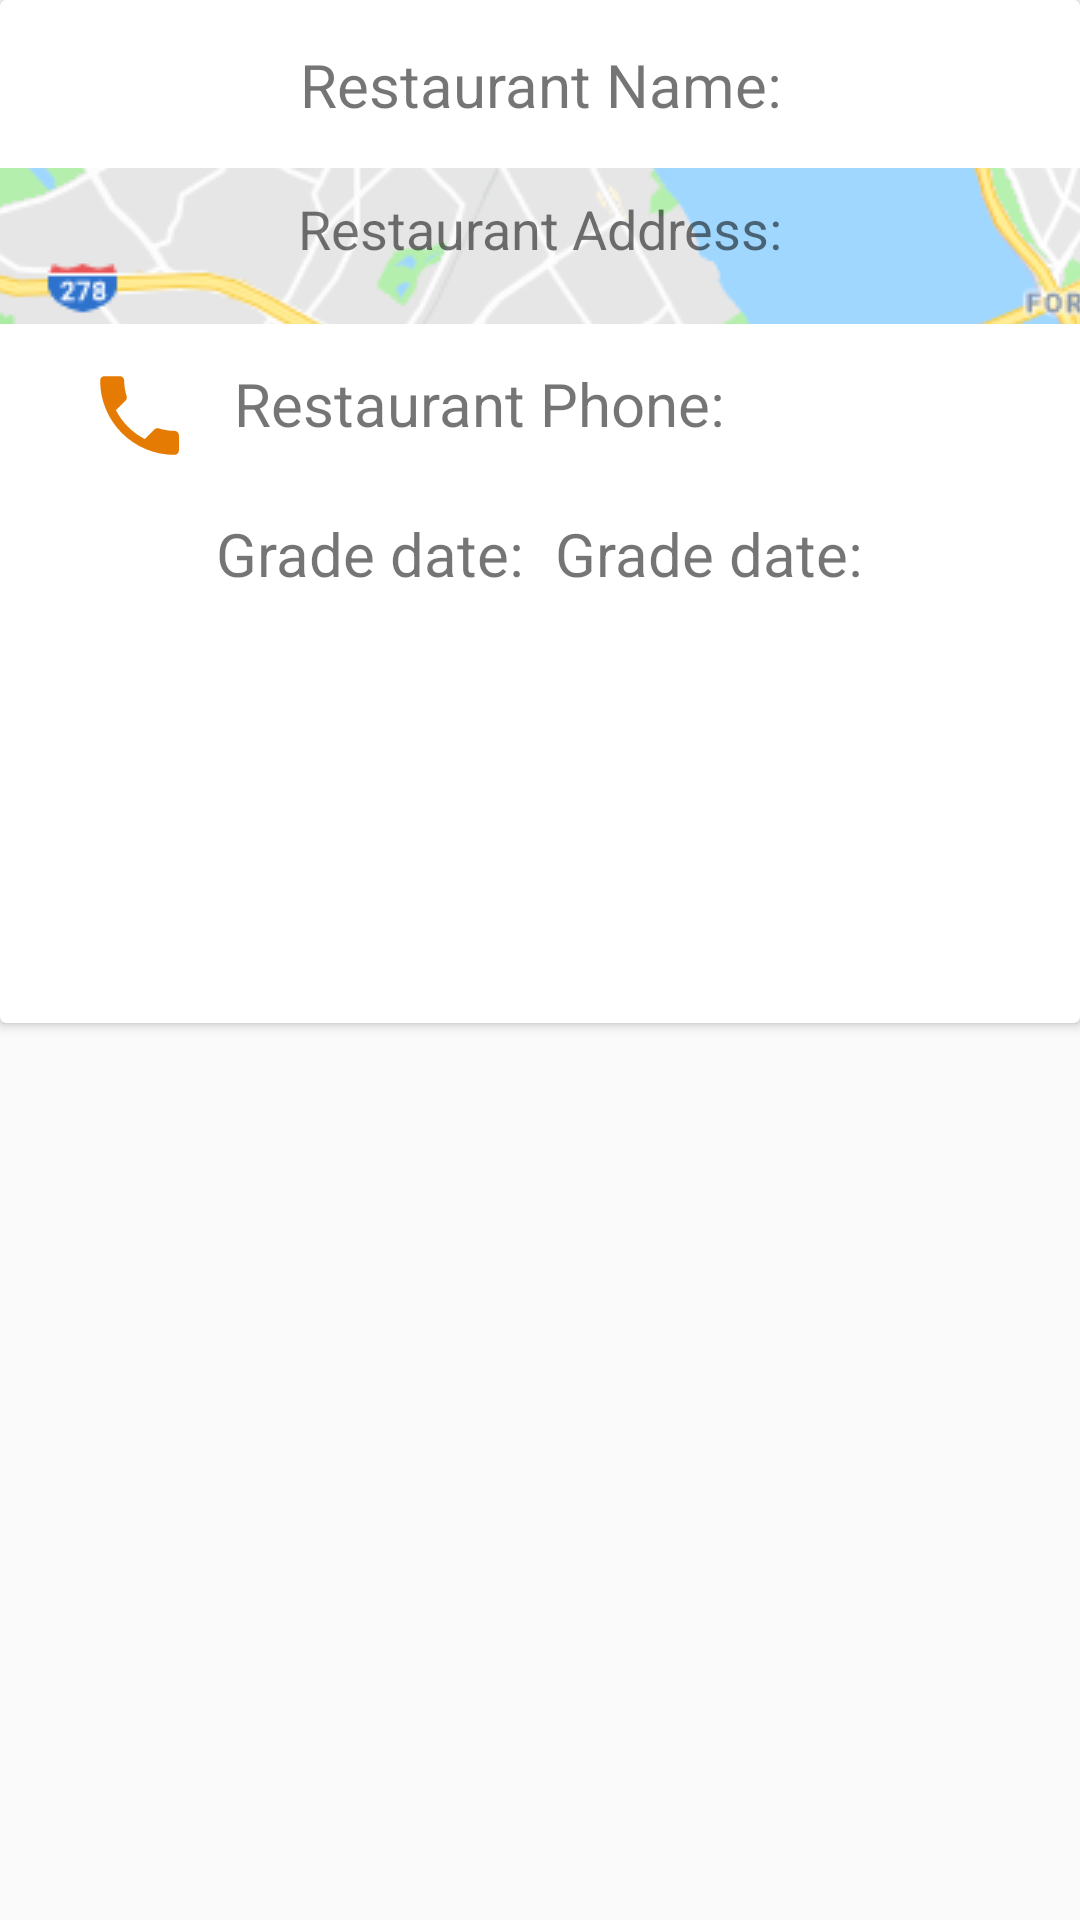

Icons on this 1080px×1920px Android screen, each with the point to tap as point (x, y):
call: point (139, 415)
